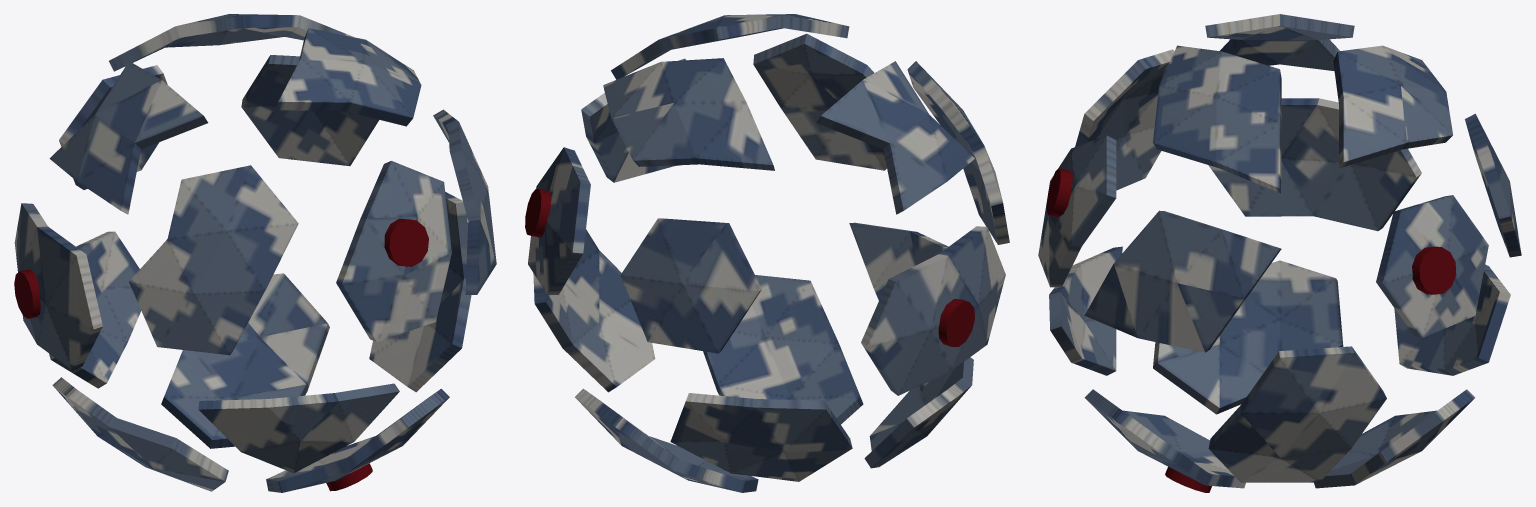
Rendered from laser_drone.glb.
3 renders of one model, left to right at view 1: azimuth 30°, elevation 25°; view 2: azimuth 150°, elevation 25°; view 3: azimuth 270°, elevation 25°, orthographic.
Parts seen in each view (by area): view 1: FlyingBall; view 2: FlyingBall; view 3: FlyingBall.
Part boxes in pixels (<box>): FlyingBall: <box>14,14,496,492</box>; FlyingBall: <box>525,14,1009,492</box>; FlyingBall: <box>1038,14,1521,492</box>.
Bounding box in the file's own units: 0.2021 × 0.1944 × 0.2.
Materials: 2 (1 with a texture image).
